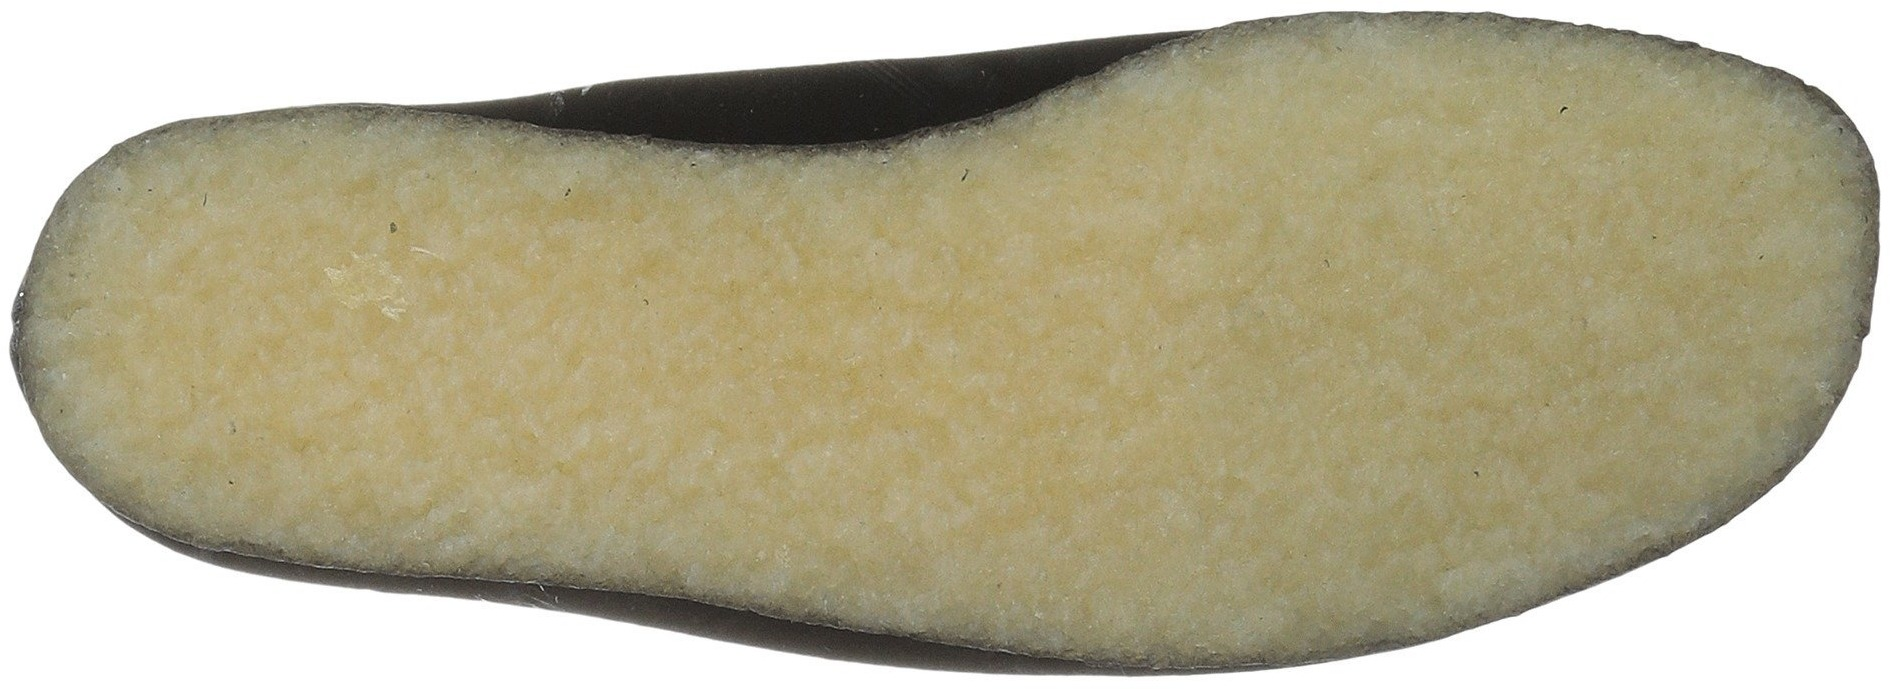other: (17, 20, 1874, 646), (460, 222, 736, 489)
